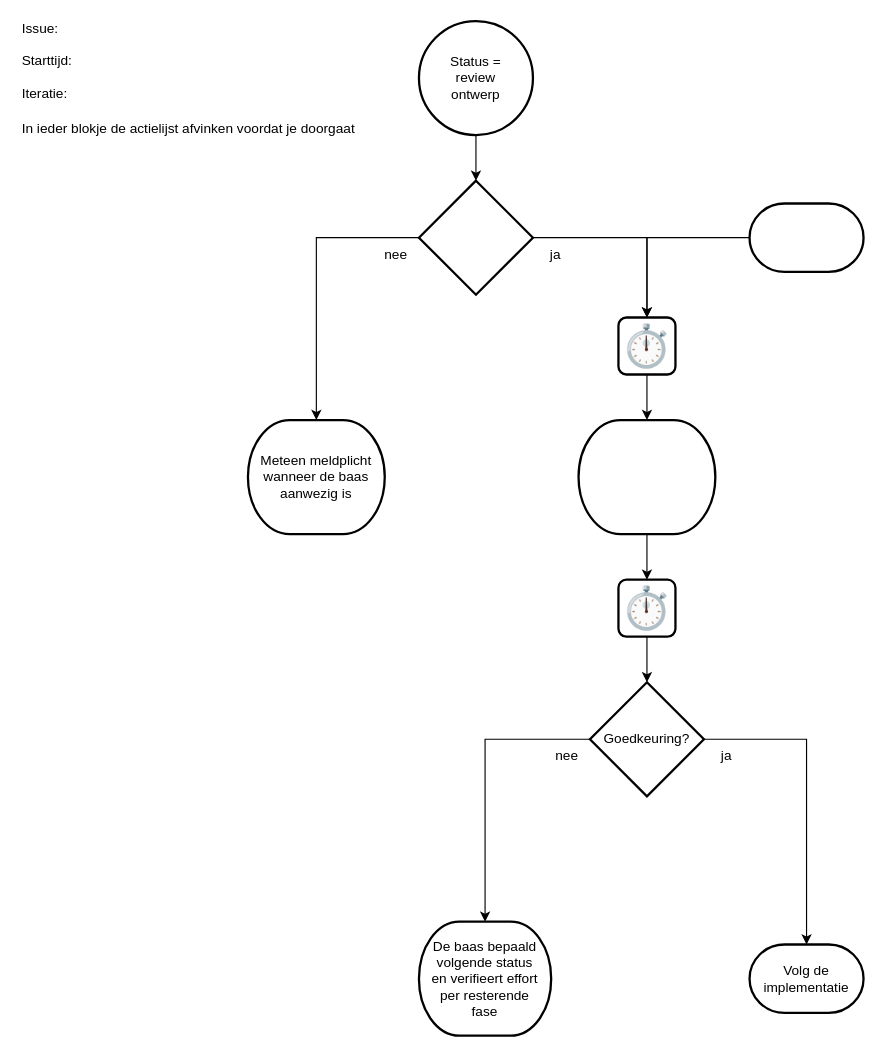
Image size: 884x1056. Some labels were removed from this diagram. The centre of each missing label's shape, as x and y in pixels:
"Is de baas aanwezig?" belongs at [475,237].
"Na dat de baas weer aanwezig is" belongs at [806,237].
"Overleg resultaten voor goedkeuring vervolg" belongs at [646,476].
